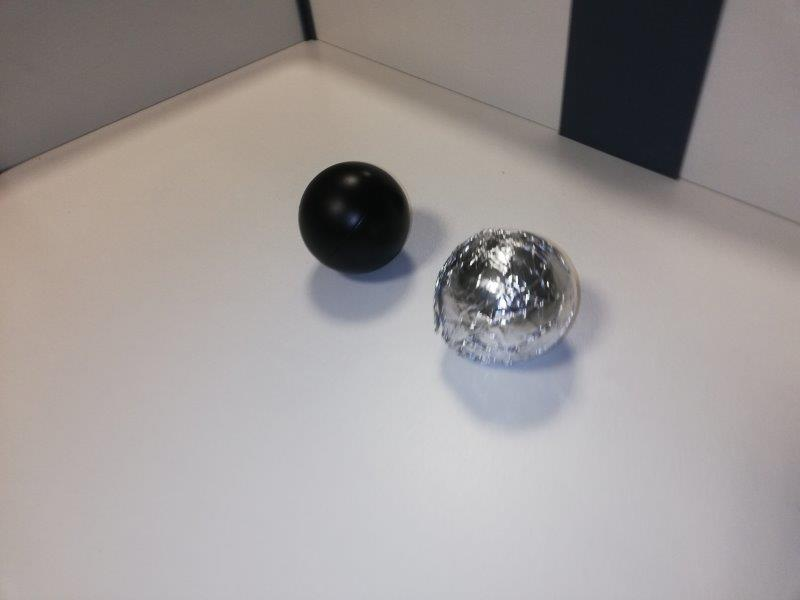bianca: (435, 226, 579, 368)
nera: (299, 161, 411, 278)
